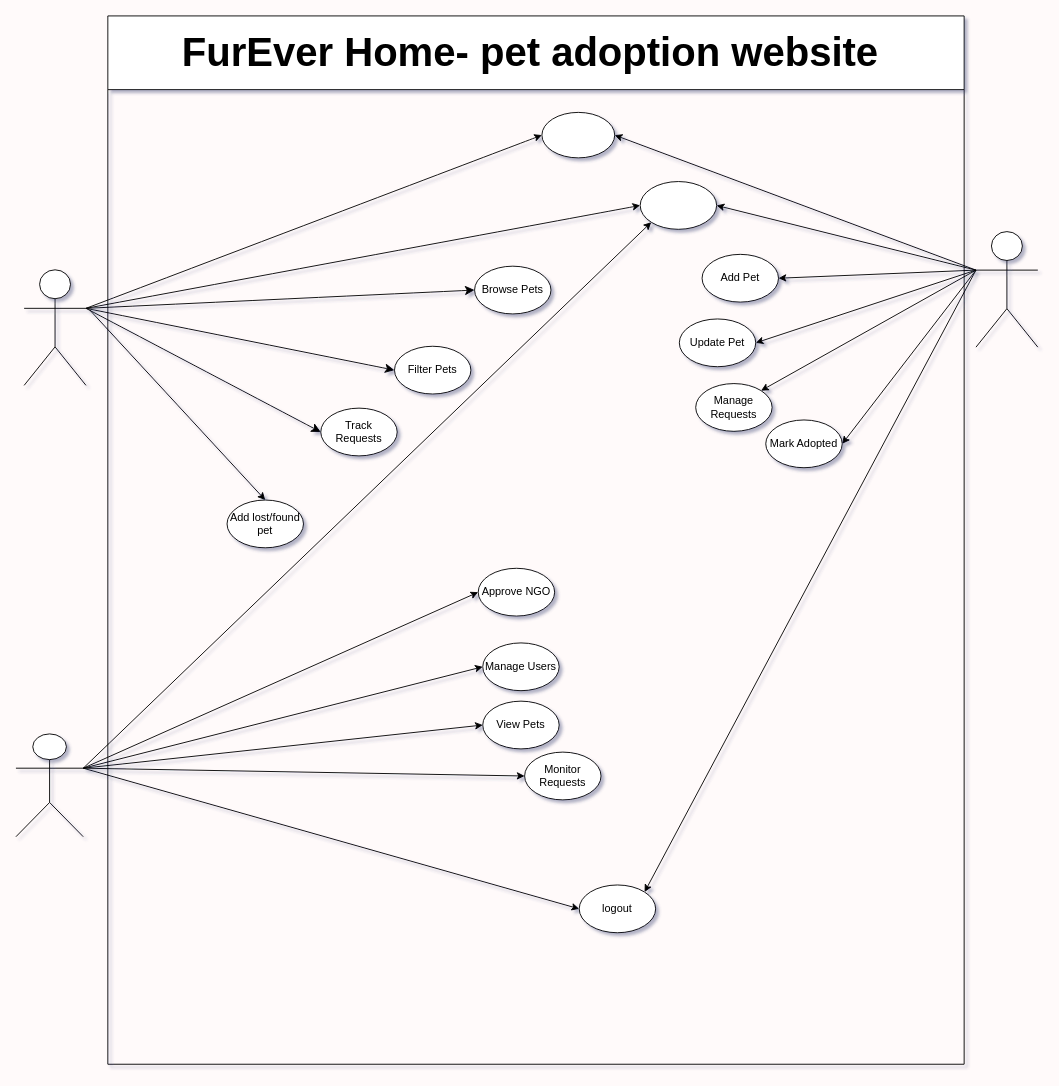
Some shapes in this 1059 by 1086 pixel diagram are drawn without their labels. Here are the shapes that lost their labels. From the top down, the centre of each, then its label:
At pixel 578 134: "Register".
At pixel 678 205: "Login".
At pixel 1006 289: "NGO".
At pixel 54 327: "user".
At pixel 49 785: "Admin".
